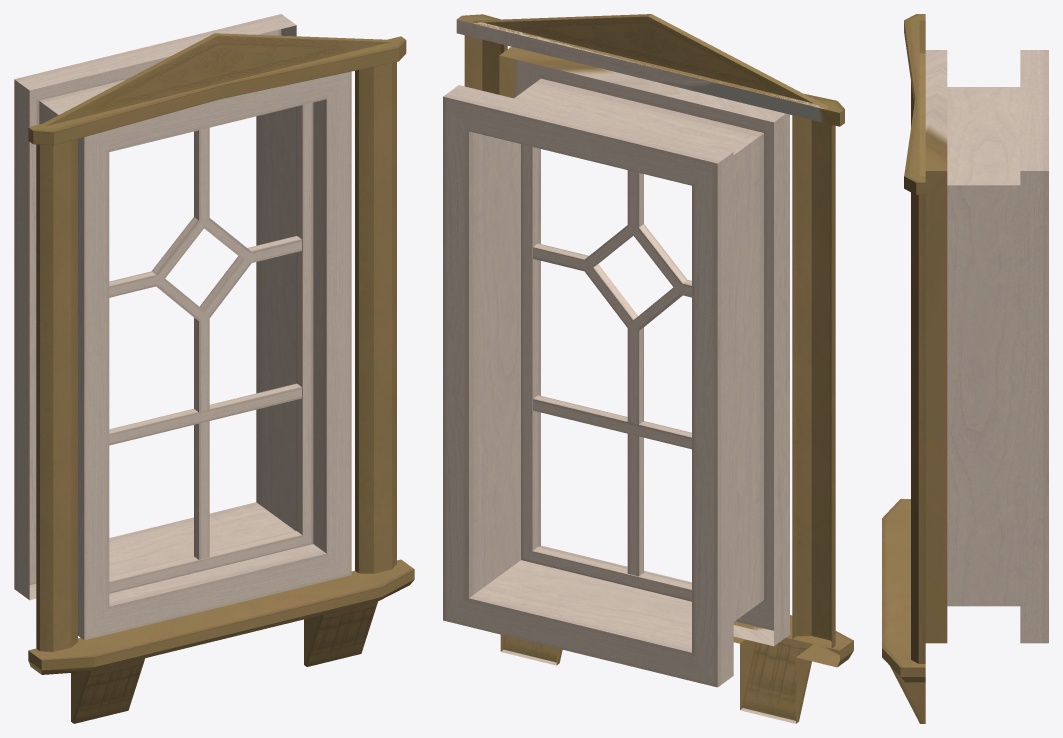
Rendered from Fenster_04.dae.
The picture shows the model from 3 angles, left to right: view 1: azimuth 30°, elevation 25°; view 2: azimuth 150°, elevation 25°; view 3: azimuth 270°, elevation 25°; orthographic projection. The views are drawn at different scales.
Parts seen in each view (by area): view 1: Cube; view 2: Cube; view 3: Cube.
Part boxes in pixels (<box>): Cube: <box>14,14,414,723</box>; Cube: <box>443,14,853,723</box>; Cube: <box>882,14,1048,723</box>.
Size of the model in its own units: 1.72 by 0.7175 by 2.88.
